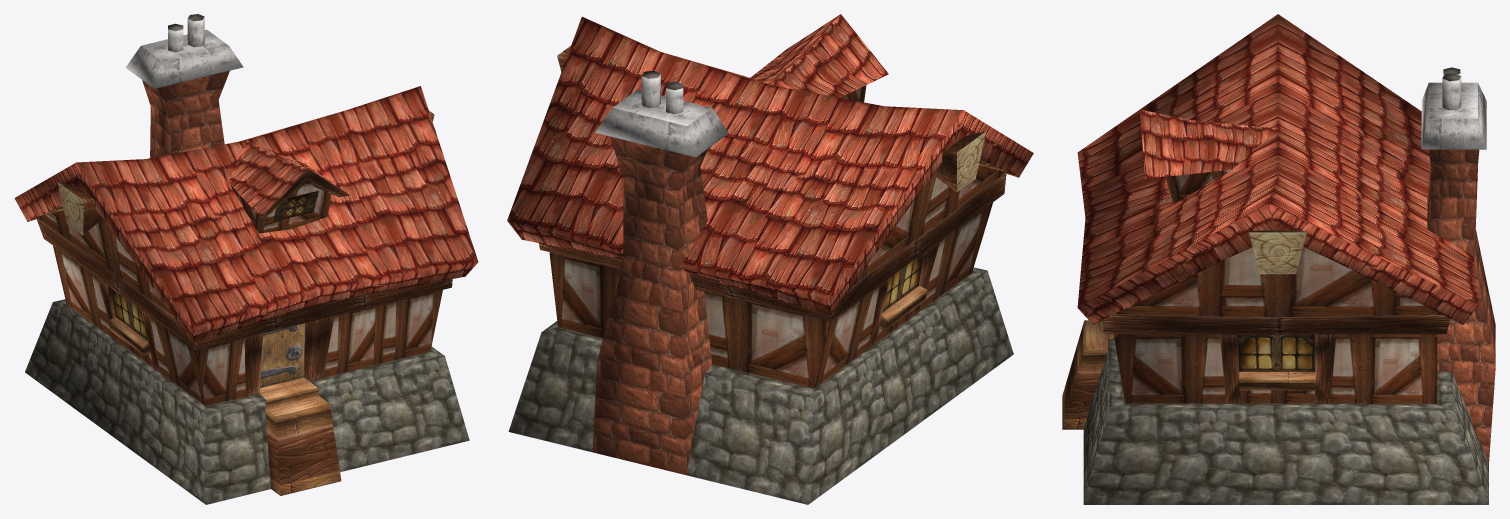
Rendered from research.glb.
3 views of the same model, side by side, from view 1: azimuth 30°, elevation 25°; view 2: azimuth 150°, elevation 25°; view 3: azimuth 270°, elevation 25° (orthographic). The views are drawn at different scales.
Parts seen in each view (by area): view 1: redridge_human_farm_closed_Geoset2, redridge_human_farm_closed_Geoset5, redridge_human_farm_closed_Geoset1, redridge_human_farm_closed_Geoset0, redridge_human_farm_closed_Geoset6, redridge_human_farm_closed_Geoset7, redridge_human_farm_closed_Geoset8, redridge_human_farm_closed_Geoset4, redridge_human_farm_closed_Geoset3; view 2: redridge_human_farm_closed_Geoset2, redridge_human_farm_closed_Geoset5, redridge_human_farm_closed_Geoset6, redridge_human_farm_closed_Geoset0, redridge_human_farm_closed_Geoset1, redridge_human_farm_closed_Geoset7, redridge_human_farm_closed_Geoset4, redridge_human_farm_closed_Geoset3; view 3: redridge_human_farm_closed_Geoset2, redridge_human_farm_closed_Geoset5, redridge_human_farm_closed_Geoset0, redridge_human_farm_closed_Geoset1, redridge_human_farm_closed_Geoset6, redridge_human_farm_closed_Geoset7, redridge_human_farm_closed_Geoset4, redridge_human_farm_closed_Geoset3.
Boxes of the visible parts, x1,y1,x2,y2 form: redridge_human_farm_closed_Geoset2: [14, 86, 478, 342]; redridge_human_farm_closed_Geoset5: [25, 299, 469, 504]; redridge_human_farm_closed_Geoset1: [28, 111, 452, 495]; redridge_human_farm_closed_Geoset0: [37, 183, 442, 405]; redridge_human_farm_closed_Geoset6: [142, 70, 229, 158]; redridge_human_farm_closed_Geoset7: [126, 14, 243, 88]; redridge_human_farm_closed_Geoset8: [260, 323, 305, 387]; redridge_human_farm_closed_Geoset4: [111, 190, 318, 340]; redridge_human_farm_closed_Geoset3: [57, 182, 83, 235]; redridge_human_farm_closed_Geoset2: [507, 14, 1033, 314]; redridge_human_farm_closed_Geoset5: [508, 267, 1013, 504]; redridge_human_farm_closed_Geoset6: [592, 136, 711, 474]; redridge_human_farm_closed_Geoset0: [549, 85, 1006, 388]; redridge_human_farm_closed_Geoset1: [538, 46, 1017, 348]; redridge_human_farm_closed_Geoset7: [595, 70, 728, 157]; redridge_human_farm_closed_Geoset4: [882, 253, 923, 312]; redridge_human_farm_closed_Geoset3: [957, 131, 986, 191]; redridge_human_farm_closed_Geoset2: [1077, 14, 1478, 324]; redridge_human_farm_closed_Geoset5: [1083, 339, 1488, 504]; redridge_human_farm_closed_Geoset0: [1113, 169, 1442, 403]; redridge_human_farm_closed_Geoset1: [1062, 230, 1450, 429]; redridge_human_farm_closed_Geoset6: [1427, 149, 1495, 463]; redridge_human_farm_closed_Geoset7: [1421, 67, 1486, 149]; redridge_human_farm_closed_Geoset4: [1237, 334, 1315, 371]; redridge_human_farm_closed_Geoset3: [1249, 232, 1306, 274].
Bounding box in the file's own units: 18.87 × 16.88 × 18.02.
9 materials, 9 textured.
